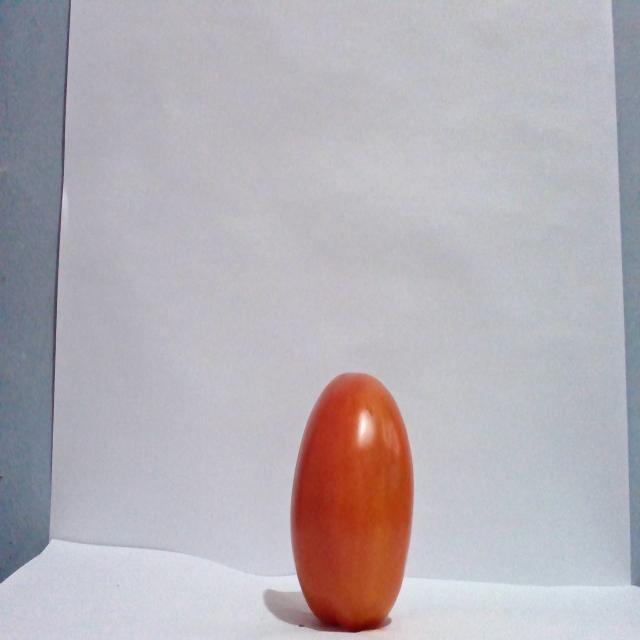Red: (288, 370, 415, 631)
